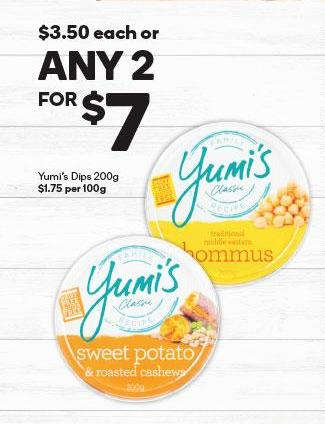description_block: (25, 167, 134, 185)
price_main: (19, 21, 172, 158)
product_image_block: (147, 121, 313, 312)
unit_price_block: (33, 182, 117, 195)
